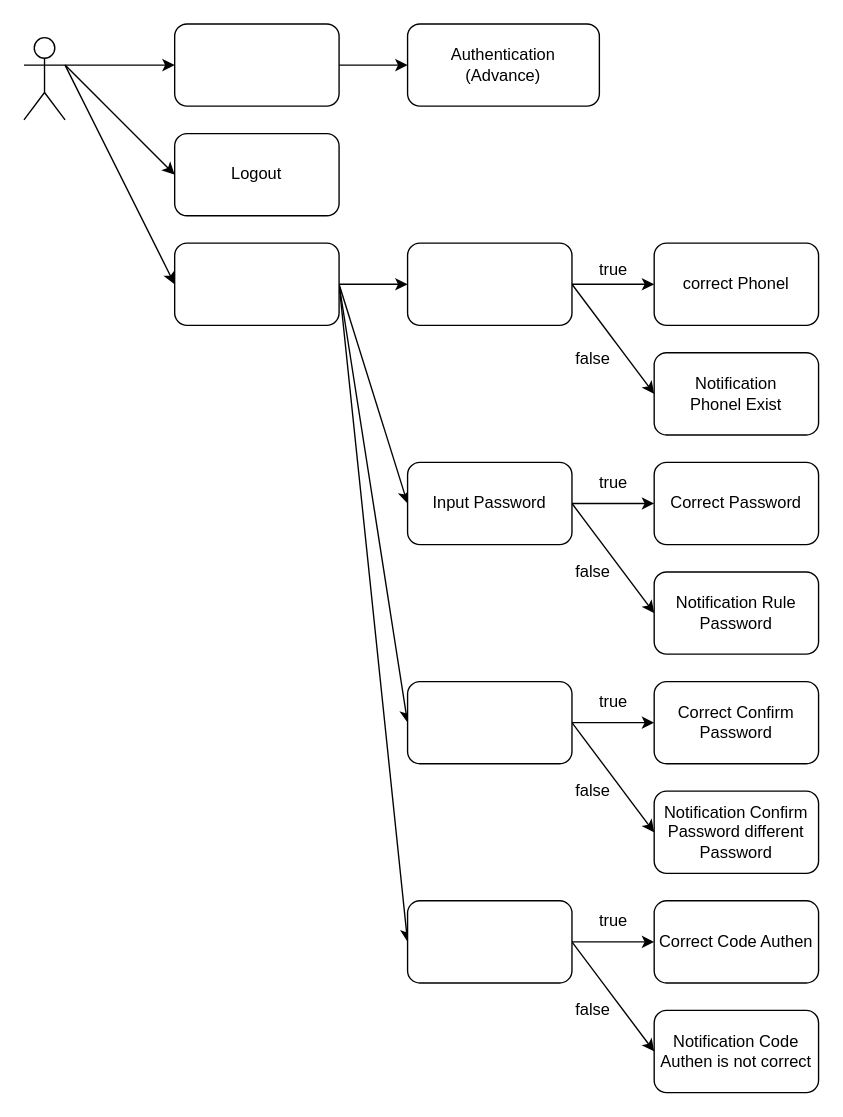
The diagram is 843 pixels wide and 1117 high, and some of its shapes have lost their labels. The shapes that lost their labels are listed below. From the top down, each one's centre as x and y in pixels, then its label:
At pixel 44 78: "User".
At pixel 256 64: "Login".
At pixel 256 283: "Sign on".
At pixel 489 283: "Input Phonel".
At pixel 489 722: "Input Confirm Password".
At pixel 489 941: "Input Code Authen (Advance)".
